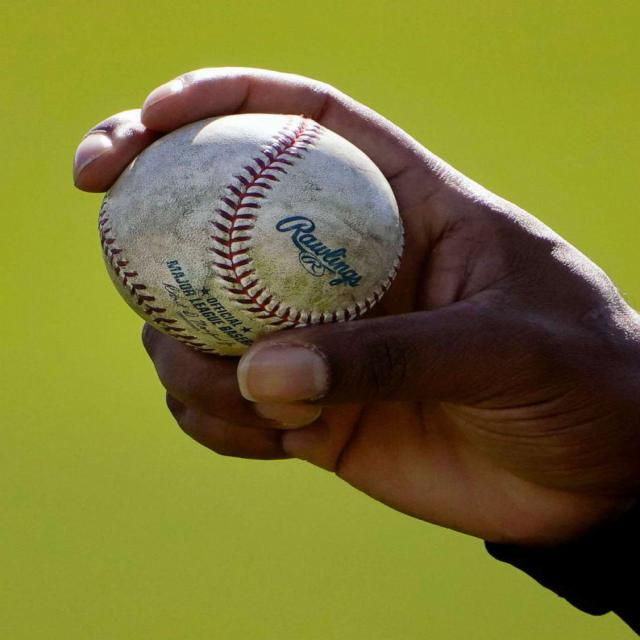baseball: (100, 119, 399, 342)
